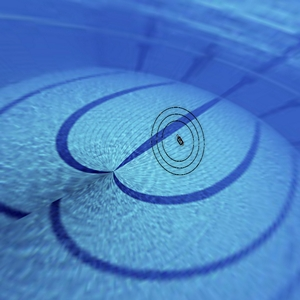circle: (145, 98, 212, 185)
submarine: (172, 132, 187, 149)
